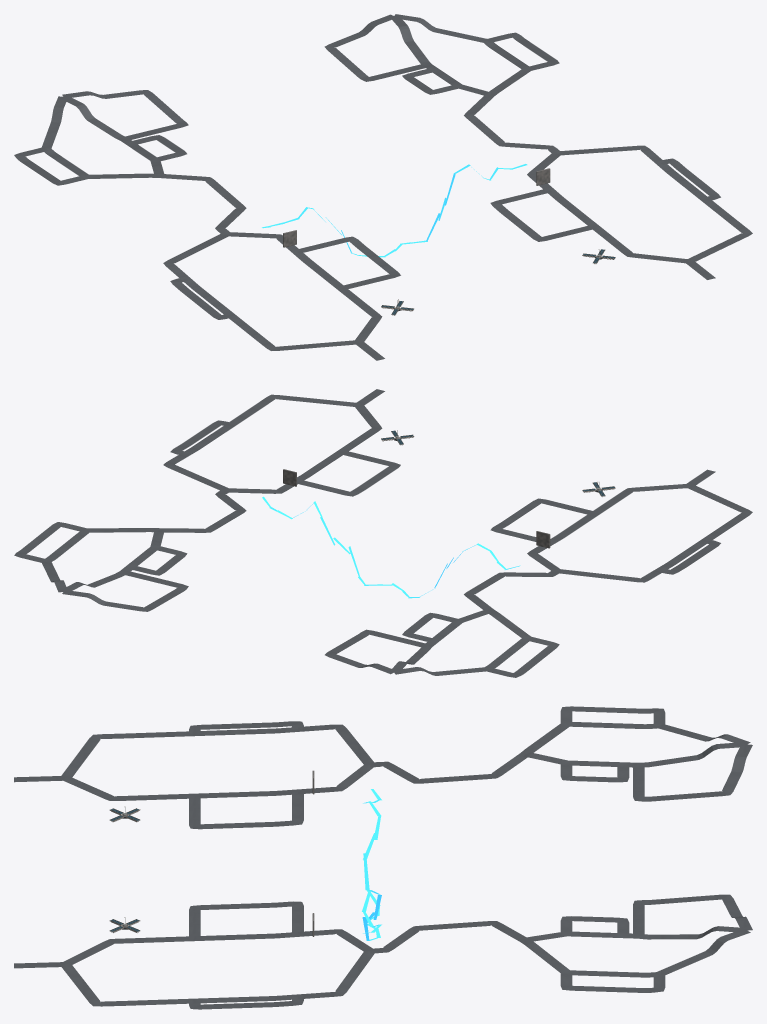
File: interactive.glb
3 views of the same model, one above another, from view 1: azimuth 30°, elevation 25°; view 2: azimuth 150°, elevation 25°; view 3: azimuth 270°, elevation 25° (orthographic). The views are drawn at different scales.
Visible parts, largest first — view 1: gold/collapse, blue/collapse, blue/beaconRock/detour, gold/beaconRock/detour, gold/common, blue/common, blue/outerIn, gold/outerIn, blue/safeRock/detour, gold/safeRock/detour, gold/beaconIn, blue/beaconIn (+2 smaller); view 2: gold/collapse, blue/collapse, gold/beaconRock/detour, blue/beaconRock/detour, gold/outerIn, blue/outerIn, blue/common, gold/common, gold/safeRock/detour, blue/safeRock/detour, blue/beaconIn, blue/outerOut (+4 smaller); view 3: blue/collapse, gold/collapse, gold/beaconRock/detour, blue/beaconRock/detour, blue/common, gold/common, blue/outerIn, gold/outerIn, blue/safeRock/detour, gold/safeRock/detour, gold/beaconIn, blue/beaconIn (+16 smaller).
Boxes of the visible parts, x1,y1,x2,y2 form: gold/collapse: (324,14,426,81); blue/collapse: (62,90,188,139); blue/beaconRock/detour: (297,236,400,289); gold/beaconRock/detour: (490,189,596,241); gold/common: (464,95,561,154); blue/common: (159,174,246,234); blue/outerIn: (229,314,359,350); gold/outerIn: (688,199,752,262); blue/safeRock/detour: (14,147,87,185); gold/safeRock/detour: (487,32,559,70); gold/beaconIn: (593,225,689,263); blue/beaconIn: (337,288,382,342); gold/collapse: (62,571,188,611); blue/collapse: (325,629,426,674); gold/beaconRock/detour: (297,450,400,496); blue/beaconRock/detour: (490,498,596,542); gold/outerIn: (229,394,359,425); blue/outerIn: (688,484,752,540); blue/common: (464,570,561,610); gold/common: (159,489,246,532); gold/safeRock/detour: (14,522,86,562); blue/safeRock/detour: (487,637,559,677); blue/beaconIn: (593,483,689,514); blue/outerOut: (557,569,664,582); blue/collapse: (633,744,752,801); gold/collapse: (633,894,752,936); gold/beaconRock/detour: (189,901,303,938); blue/beaconRock/detour: (189,792,303,829); blue/common: (370,753,527,783); gold/common: (370,921,526,953); blue/outerIn: (60,731,194,778); gold/outerIn: (60,964,194,1006); blue/safeRock/detour: (560,706,665,725); gold/safeRock/detour: (560,972,665,992); gold/beaconIn: (61,936,194,965); blue/beaconIn: (62,777,194,800).
Bounding box in the file's own units: 97.83 × 14.39 × 107.
9 materials, 2 textured.
